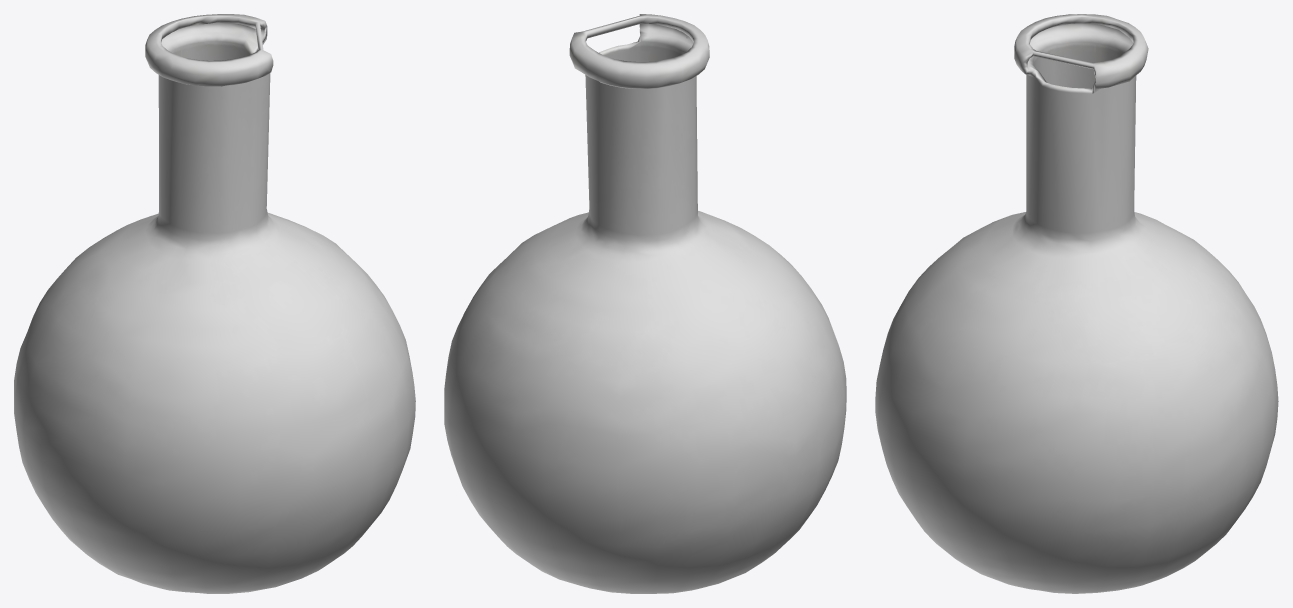
The model's file is round-bottomed_flask_1778075272.glb.
The picture shows the model from 3 angles, left to right: view 1: azimuth 30°, elevation 25°; view 2: azimuth 150°, elevation 25°; view 3: azimuth 270°, elevation 25°; orthographic projection.
Parts seen in each view (by area): view 1: tripo_node_ac0f4cd4-c27a-43ee-aa01-dbb197e46da6; view 2: tripo_node_ac0f4cd4-c27a-43ee-aa01-dbb197e46da6; view 3: tripo_node_ac0f4cd4-c27a-43ee-aa01-dbb197e46da6.
Boxes of the visible parts, box(x1,y1,x2,y2) form: tripo_node_ac0f4cd4-c27a-43ee-aa01-dbb197e46da6: box(14, 14, 415, 593); tripo_node_ac0f4cd4-c27a-43ee-aa01-dbb197e46da6: box(444, 14, 846, 593); tripo_node_ac0f4cd4-c27a-43ee-aa01-dbb197e46da6: box(875, 14, 1278, 593).
Size of the model in its own units: 0.709 by 0.998 by 0.709.
Materials: 1 (1 with a texture image).
